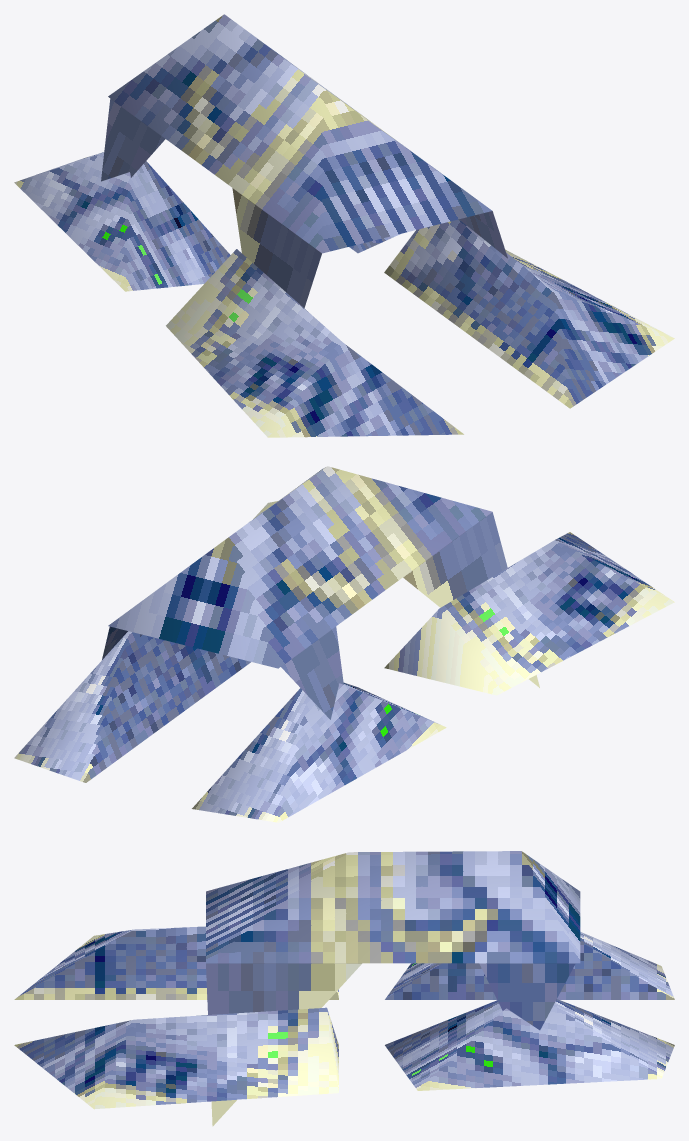
Rendered from GunTankZ_Anim.glb.
The picture shows the model from 3 angles, top to bottom: view 1: azimuth 30°, elevation 25°; view 2: azimuth 150°, elevation 25°; view 3: azimuth 270°, elevation 25°; orthographic projection. The views are drawn at different scales.
Parts seen in each view (by area): view 1: GunTankZ_Anim_part00; view 2: GunTankZ_Anim_part00; view 3: GunTankZ_Anim_part00.
Part boxes in pixels (x1,y1,x2,y2): GunTankZ_Anim_part00: (14, 14, 674, 437); GunTankZ_Anim_part00: (14, 466, 674, 822); GunTankZ_Anim_part00: (14, 851, 674, 1126).
Bounding box in the file's own units: 8.35 × 4.87 × 13.45.
Materials: 3 (3 with a texture image).
